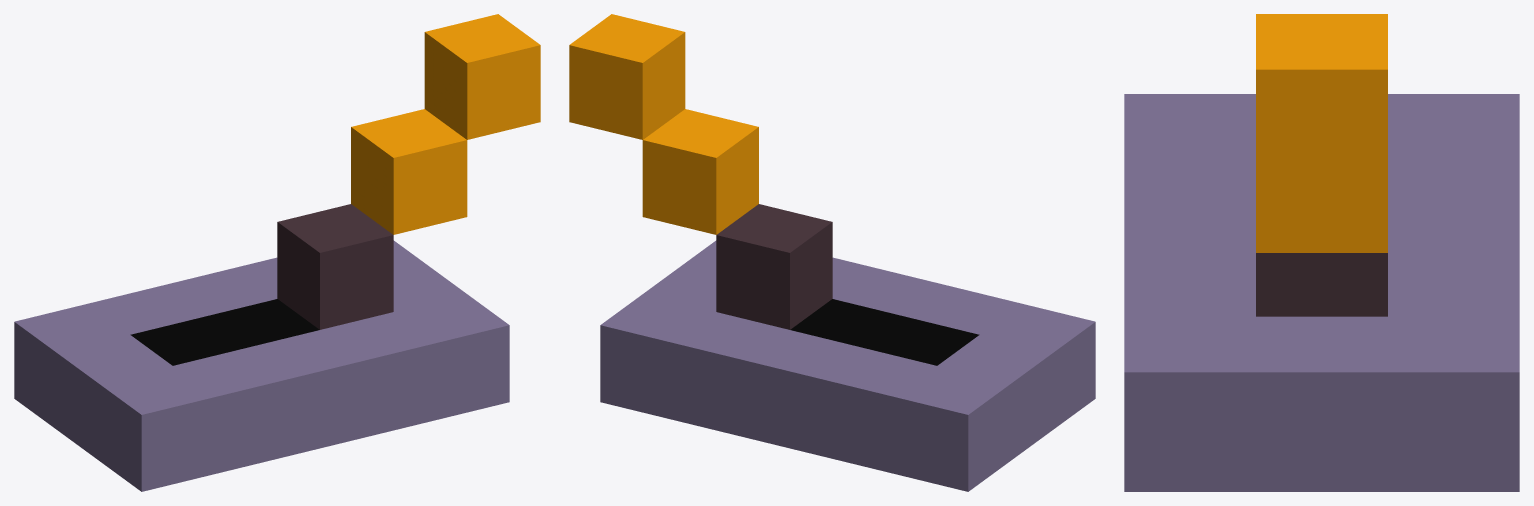
File: lever_a_b_yellow_on.obj
3 views of the same model, side by side, from view 1: azimuth 30°, elevation 25°; view 2: azimuth 150°, elevation 25°; view 3: azimuth 270°, elevation 25° (orthographic). The views are drawn at different scales.
Bounding box in the file's own units: 0.6 × 0.4 × 0.3.
Materials: 1 (1 with a texture image).
